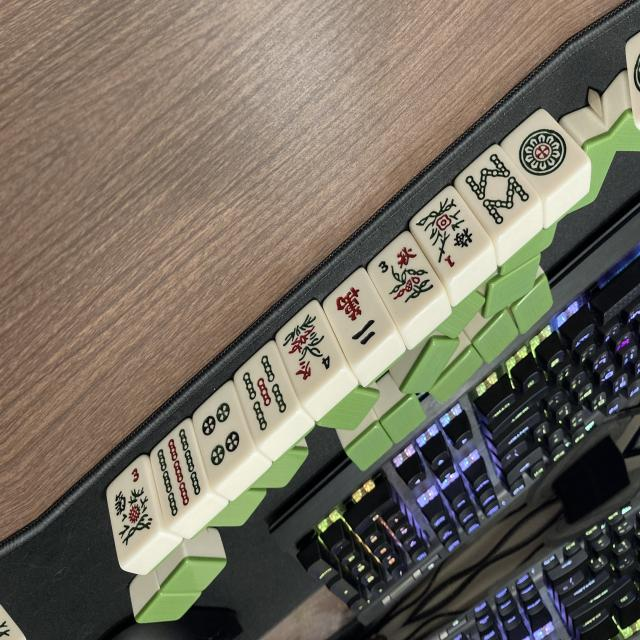f1: (406, 185, 492, 282)
f3: (110, 468, 154, 549)
ff3: (363, 233, 448, 327)
ff4: (264, 301, 352, 402)
m2: (316, 267, 399, 363)
s5: (222, 344, 306, 442)
s8: (455, 145, 538, 237)
s9: (136, 422, 221, 524)
t1: (502, 106, 591, 200)
t4: (180, 386, 263, 479)
